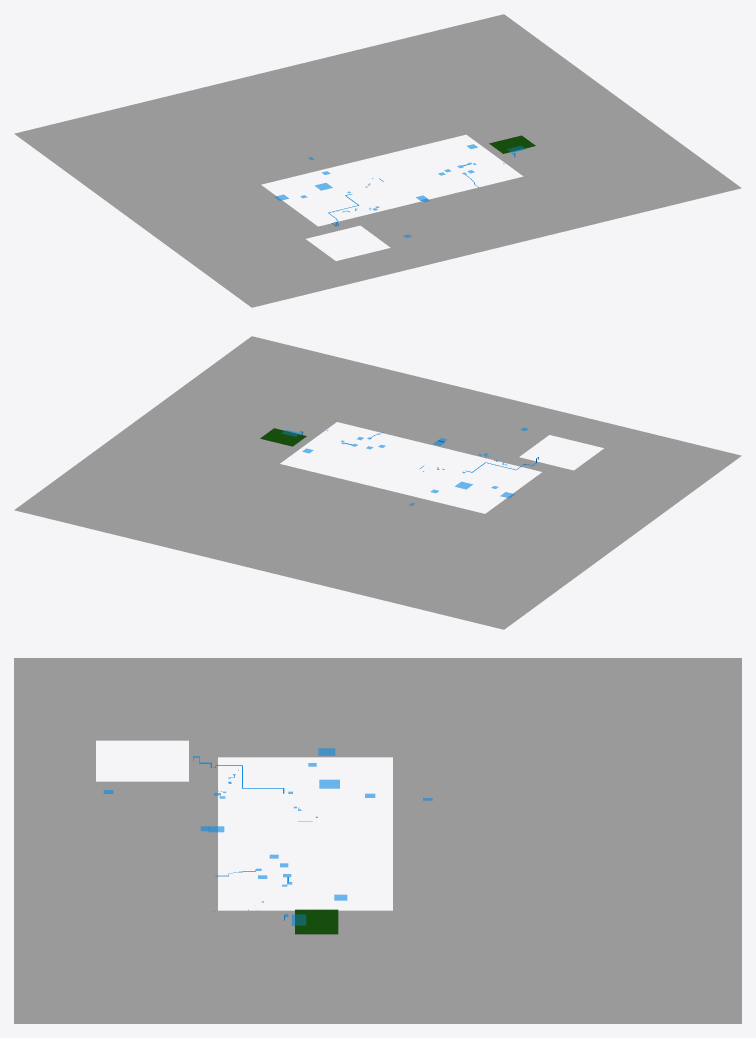
Rendered from WorldExternal.fbx.
3 views of the same model, one above another, from view 1: azimuth 30°, elevation 25°; view 2: azimuth 150°, elevation 25°; view 3: azimuth 270°, elevation 25° (orthographic). The views are drawn at different scales.
Parts seen in each view (by area): view 1: DieZoneFall, Block5136; view 2: DieZoneFall, Block5136; view 3: DieZoneFall, Block5136.
Part boxes in pixels (x1,y1,x2,y2): DieZoneFall: [14, 14, 741, 307]; Block5136: [489, 135, 535, 153]; DieZoneFall: [14, 336, 741, 629]; Block5136: [260, 428, 306, 446]; DieZoneFall: [14, 658, 741, 1023]; Block5136: [295, 909, 338, 934].
Size of what is drawn, in the model's own units: 3247 by 38.82 by 2730.
